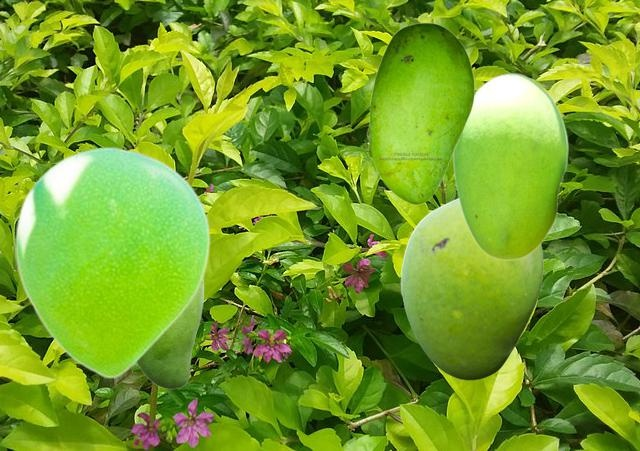green_mango: (15, 146, 209, 378), (400, 197, 542, 379), (452, 72, 567, 259), (366, 22, 474, 204), (137, 282, 203, 388)
